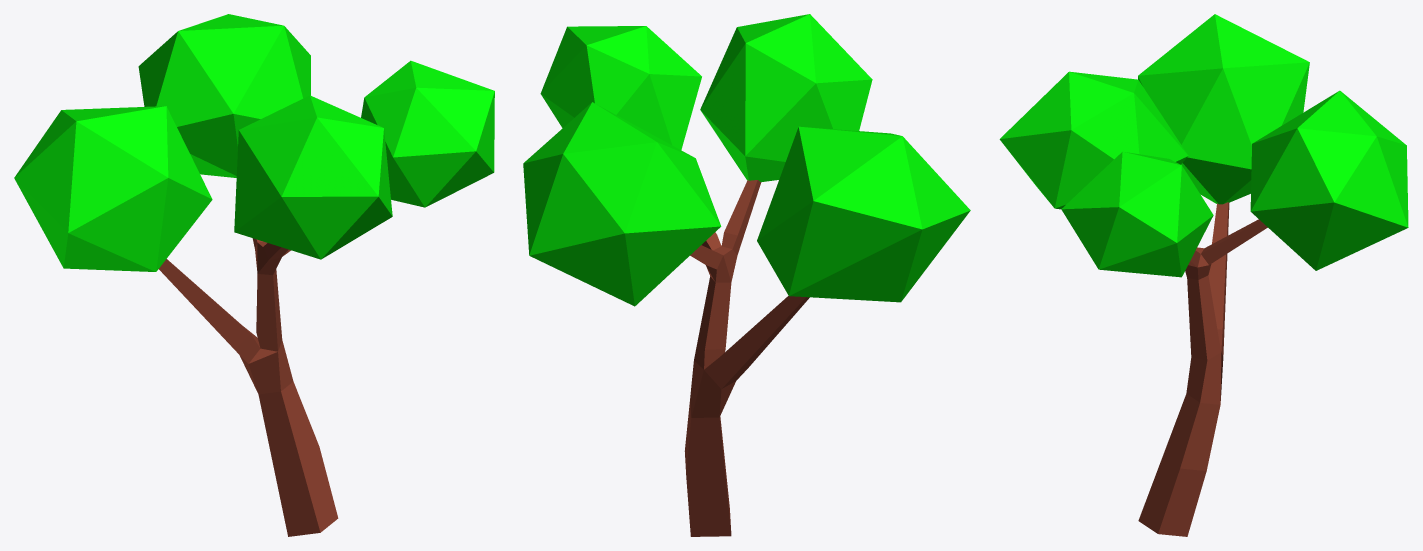
The model's file is tree_1c.fbx.
The picture shows the model from 3 angles, left to right: view 1: azimuth 30°, elevation 25°; view 2: azimuth 150°, elevation 25°; view 3: azimuth 270°, elevation 25°; orthographic projection. The views are drawn at different scales.
Visible parts, largest first — view 1: tree_1c; view 2: tree_1c; view 3: tree_1c.
Part boxes in pixels (x1,y1,x2,y2): tree_1c: (14,14,494,536); tree_1c: (523,14,970,536); tree_1c: (999,14,1408,536).
Bounding box in the file's own units: 612 × 662 × 556.
